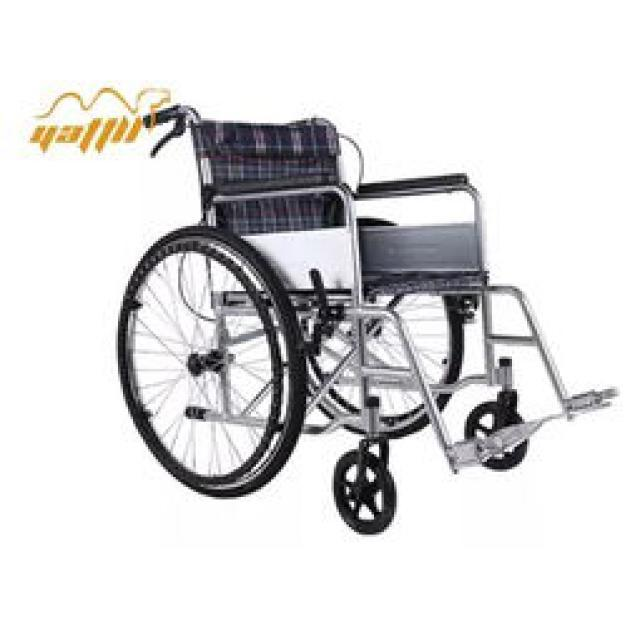wheelchair: (108, 103, 630, 542)
